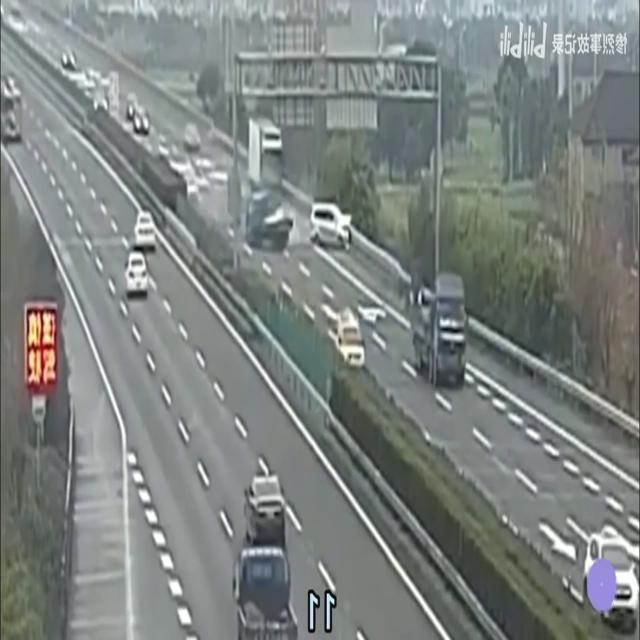accident: (227, 114, 295, 254), (124, 92, 152, 136)
non-accident: (232, 472, 300, 640), (123, 210, 159, 298)
